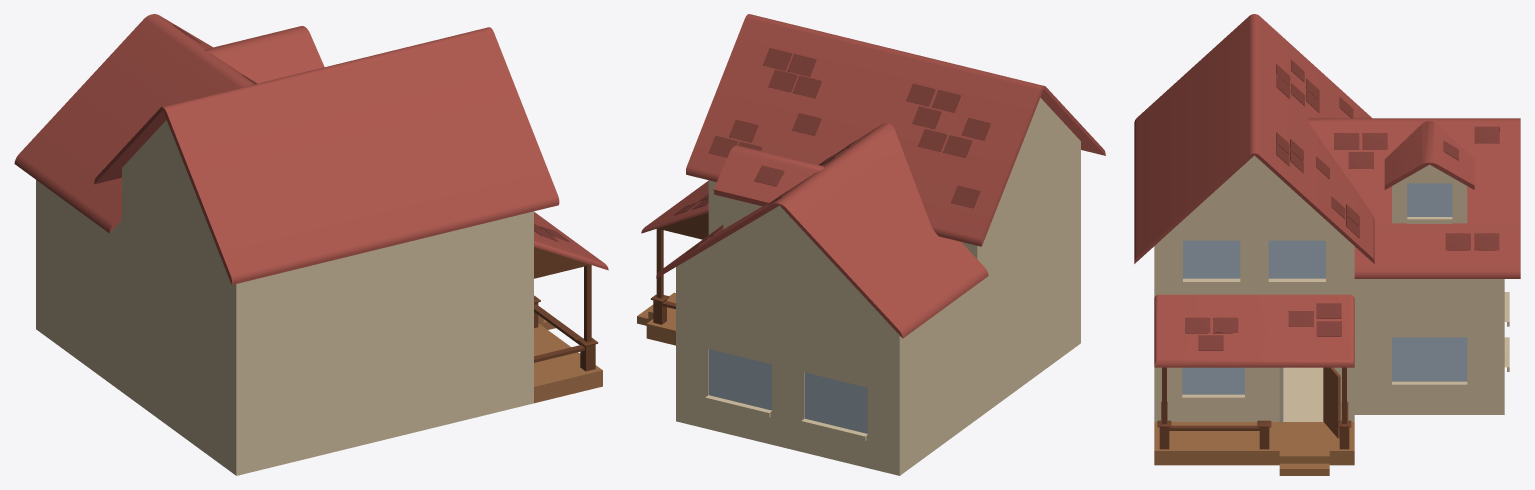
The model's file is house.glb.
3 renders of one model, left to right at view 1: azimuth 30°, elevation 25°; view 2: azimuth 150°, elevation 25°; view 3: azimuth 270°, elevation 25°, orthographic. The views are drawn at different scales.
Parts seen in each view (by area): view 1: house, roof, porch, fence; view 2: house, roof, Cube.001, windows, fence, porch; view 3: roof, house, windows, Cube.001, porch, fence, doorframe.001.
Part boxes in pixels (x1,y1,x2,y2): house: (36, 120, 533, 475); roof: (14, 14, 608, 284); porch: (534, 315, 602, 403); fence: (534, 247, 598, 371); house: (676, 98, 1080, 475); roof: (641, 14, 1105, 338); Cube.001: (673, 48, 990, 254); windows: (708, 349, 867, 433); fence: (651, 212, 708, 324); porch: (637, 292, 675, 345); roof: (1134, 14, 1520, 367); house: (1154, 155, 1509, 421); windows: (1182, 183, 1467, 394); Cube.001: (1185, 60, 1499, 350); porch: (1154, 422, 1354, 475); fence: (1157, 367, 1351, 449); doorframe.001: (1323, 367, 1340, 438).
Bounding box in the file's own units: 8.21 × 6.36 × 7.72.
